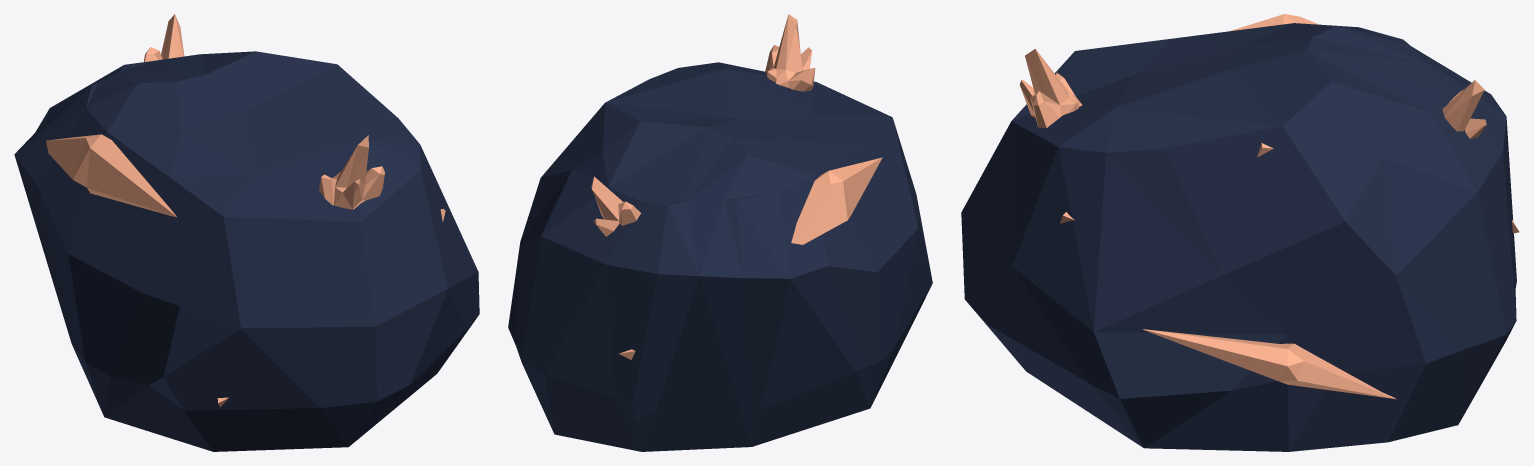
The model's file is Piedra Hierro.fbx.
3 views of the same model, side by side, from view 1: azimuth 30°, elevation 25°; view 2: azimuth 150°, elevation 25°; view 3: azimuth 270°, elevation 25° (orthographic). The views are drawn at different scales.
Parts seen in each view (by area): view 1: Piedra Hierro; view 2: Piedra Hierro; view 3: Piedra Hierro.
Part boxes in pixels (left/top/right/bottom): Piedra Hierro: left=14, top=14, right=479, bottom=451; Piedra Hierro: left=508, top=14, right=932, bottom=451; Piedra Hierro: left=961, top=14, right=1519, bottom=451.
Size of the model in its own units: 761 by 933 by 640.
Materials: 2 (1 with a texture image).
